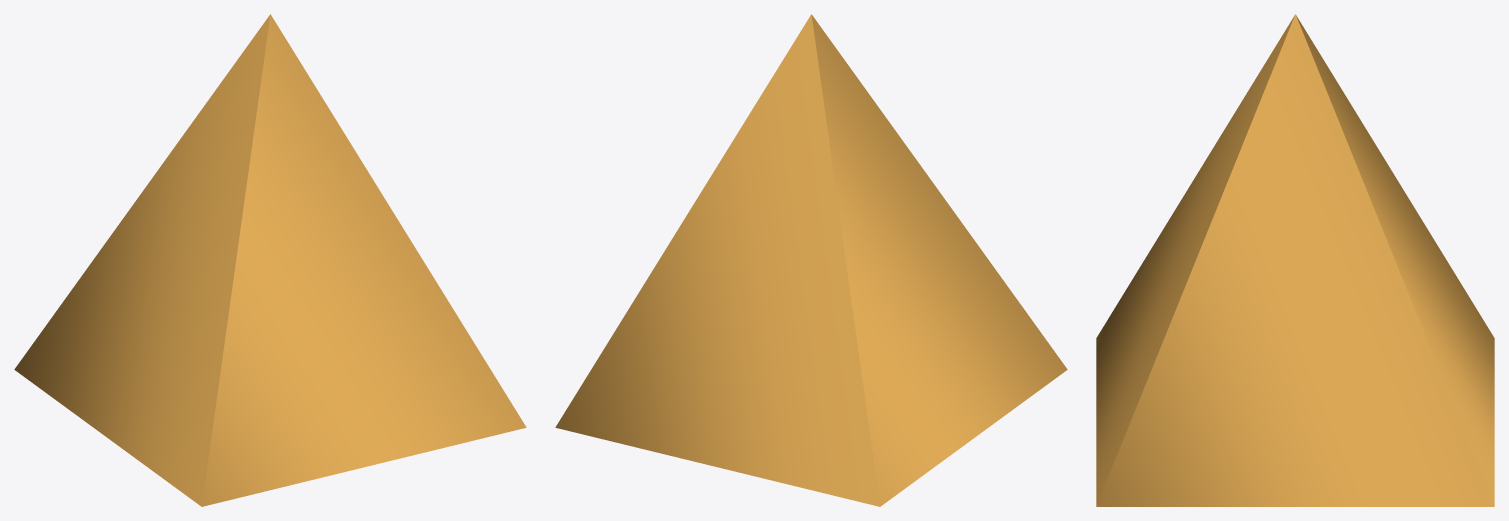
The model's file is deco_desert_1.glb.
The picture shows the model from 3 angles, left to right: view 1: azimuth 30°, elevation 25°; view 2: azimuth 150°, elevation 25°; view 3: azimuth 270°, elevation 25°; orthographic projection. The views are drawn at different scales.
Visible parts, largest first — view 1: deco_desert_1; view 2: deco_desert_1; view 3: deco_desert_1.
Boxes of the visible parts, left/top/right/bottom form: deco_desert_1: left=14, top=14, right=526, bottom=506; deco_desert_1: left=555, top=14, right=1067, bottom=506; deco_desert_1: left=1096, top=14, right=1494, bottom=506.
Bounding box in the file's own units: 7.07 × 8 × 7.07.
